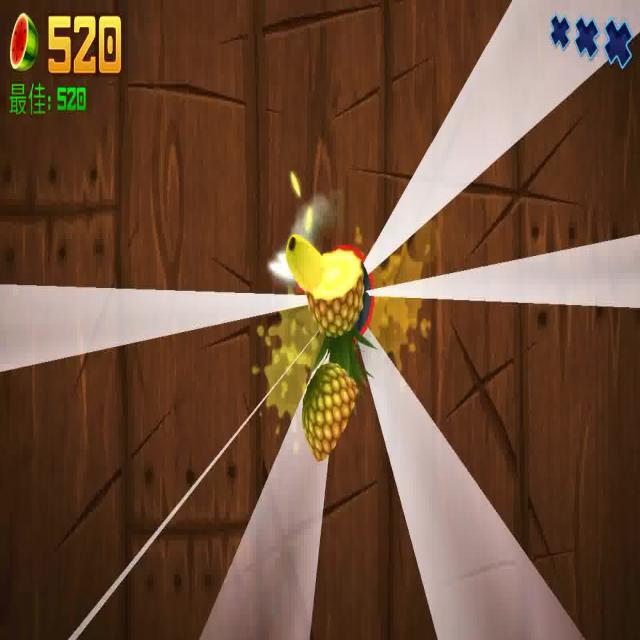bomb: (328, 243, 372, 349)
fruit: (299, 361, 365, 462), (308, 252, 362, 340), (285, 232, 327, 290)
